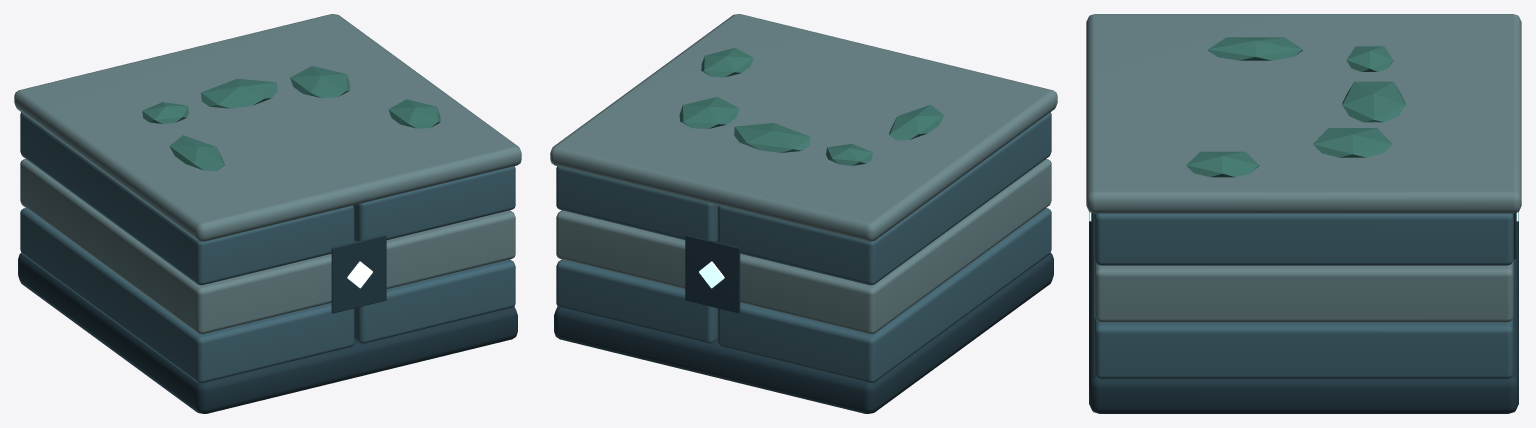
File: wall_1.glb
3 renders of one model, left to right at view 1: azimuth 30°, elevation 25°; view 2: azimuth 150°, elevation 25°; view 3: azimuth 270°, elevation 25°, orthographic. The views are drawn at different scales.
Visible parts, largest first — view 1: Coping.001, CarvedBlock.006, Foundation.001, CarvedBlock.008, CarvedBlock.010, CarvedBlock.007, CarvedBlock.011, CarvedBlock.009, Inset, Moss.005, Moss.007, Moss.009 (+2 smaller); view 2: Coping.001, CarvedBlock.006, Foundation.001, CarvedBlock.008, CarvedBlock.010, CarvedBlock.007, CarvedBlock.011, CarvedBlock.009, Inset.001, Moss.005, Moss.007, Moss.009 (+2 smaller); view 3: Coping.001, CarvedBlock.007, CarvedBlock.009, CarvedBlock.011, Foundation.001, Moss.005, Moss.007, Moss.009, Moss.008, Moss.006.
Boxes of the visible parts, x1,y1,x2,y2 form: Coping.001: (14, 14, 521, 241); CarvedBlock.006: (20, 208, 354, 383); Foundation.001: (18, 253, 517, 413); CarvedBlock.008: (20, 159, 331, 334); CarvedBlock.010: (20, 112, 354, 285); CarvedBlock.007: (354, 259, 515, 343); CarvedBlock.011: (353, 166, 515, 241); CarvedBlock.009: (386, 210, 515, 289); Inset: (331, 234, 386, 313); Moss.005: (201, 78, 277, 108); Moss.007: (290, 66, 349, 98); Moss.009: (169, 135, 224, 170); Coping.001: (550, 14, 1057, 241); CarvedBlock.006: (717, 208, 1051, 383); Foundation.001: (554, 253, 1053, 413); CarvedBlock.008: (740, 159, 1051, 334); CarvedBlock.010: (717, 112, 1051, 285); CarvedBlock.007: (556, 259, 717, 343); CarvedBlock.011: (556, 166, 718, 241); CarvedBlock.009: (556, 210, 685, 289); Inset.001: (685, 234, 740, 313); Moss.005: (734, 123, 810, 152); Moss.007: (679, 97, 739, 129); Moss.009: (889, 104, 943, 140); Coping.001: (1086, 14, 1521, 213); CarvedBlock.007: (1094, 317, 1513, 379); CarvedBlock.009: (1094, 260, 1513, 322); CarvedBlock.011: (1094, 213, 1513, 265); Foundation.001: (1089, 212, 1518, 413); Moss.005: (1342, 81, 1405, 122); Moss.007: (1313, 128, 1392, 157); Moss.009: (1208, 37, 1302, 60); Moss.008: (1186, 151, 1259, 177); Moss.006: (1346, 46, 1393, 71).
Size of the model in its own units: 4.03 by 2.4 by 4.03.
